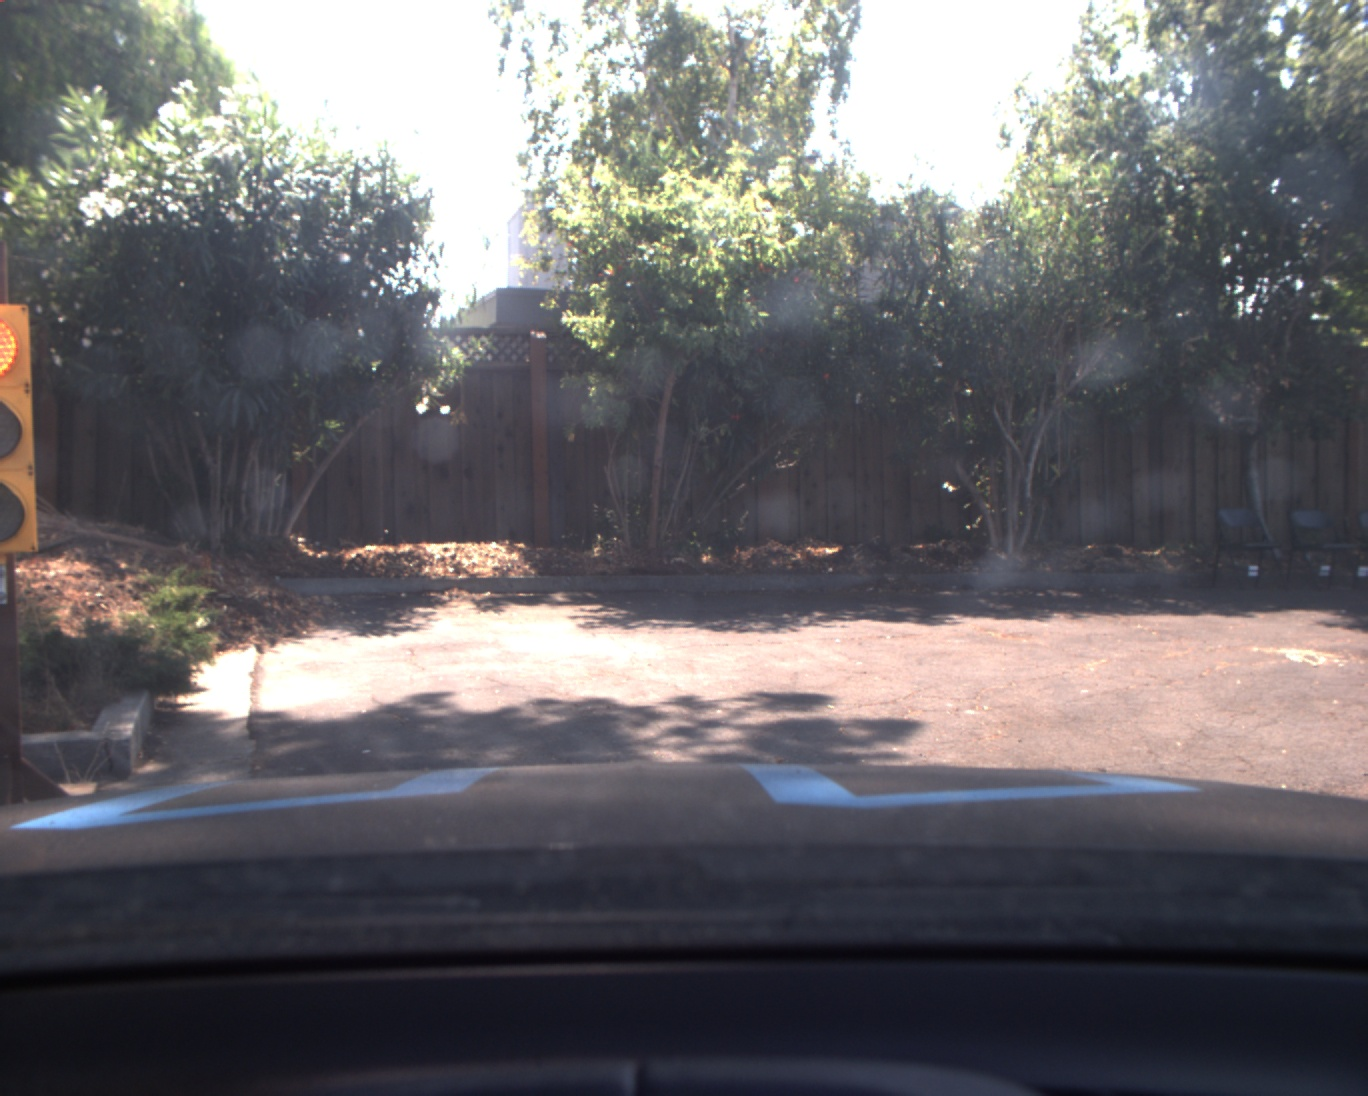red: (2, 303, 36, 556)
